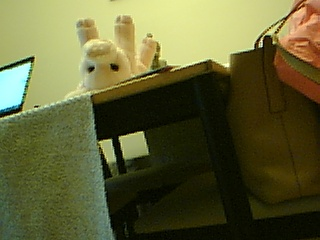piggy: (64, 12, 157, 102)
